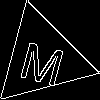M: (17, 32, 69, 87)
